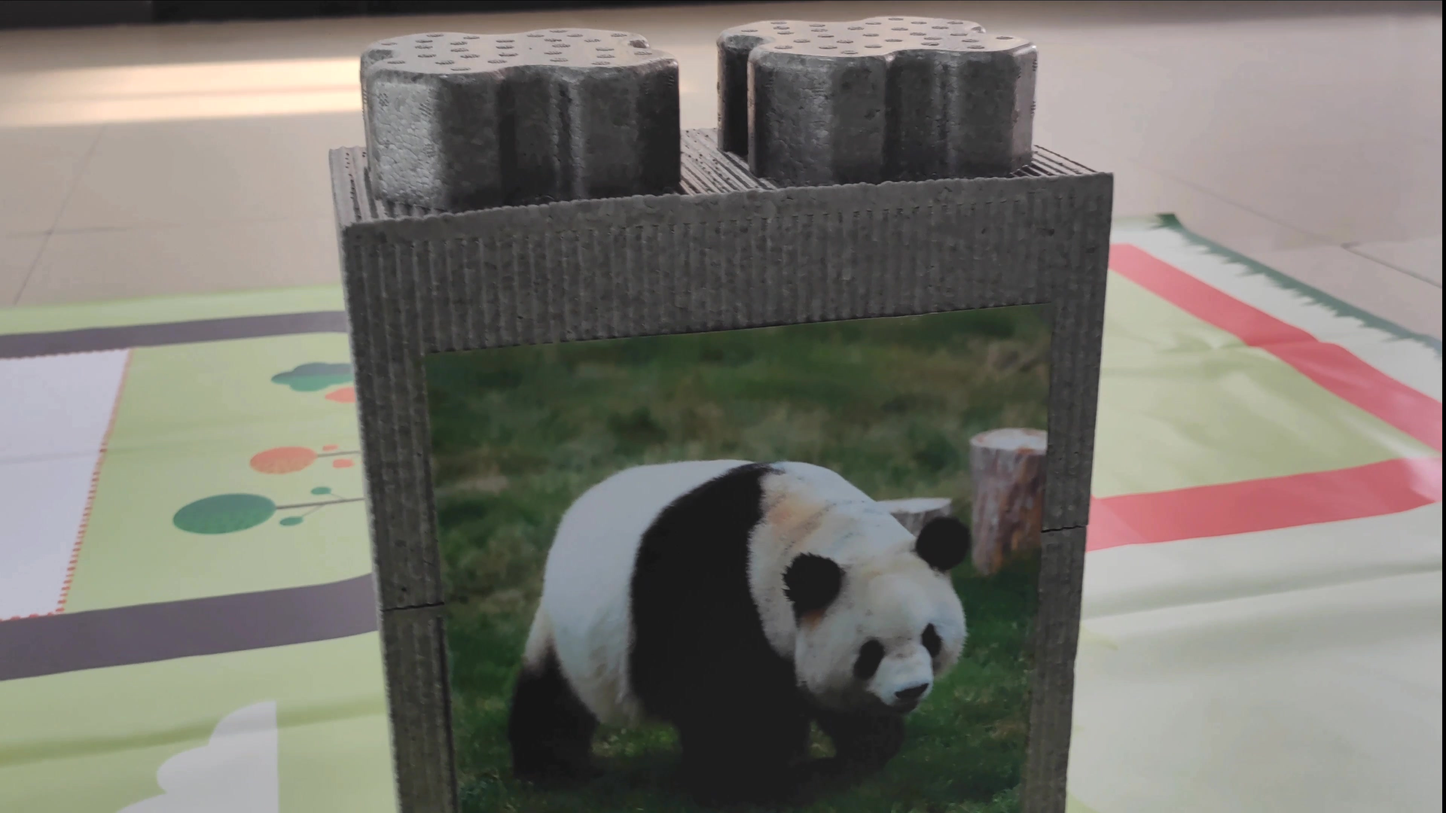panda: (487, 397, 982, 794)
